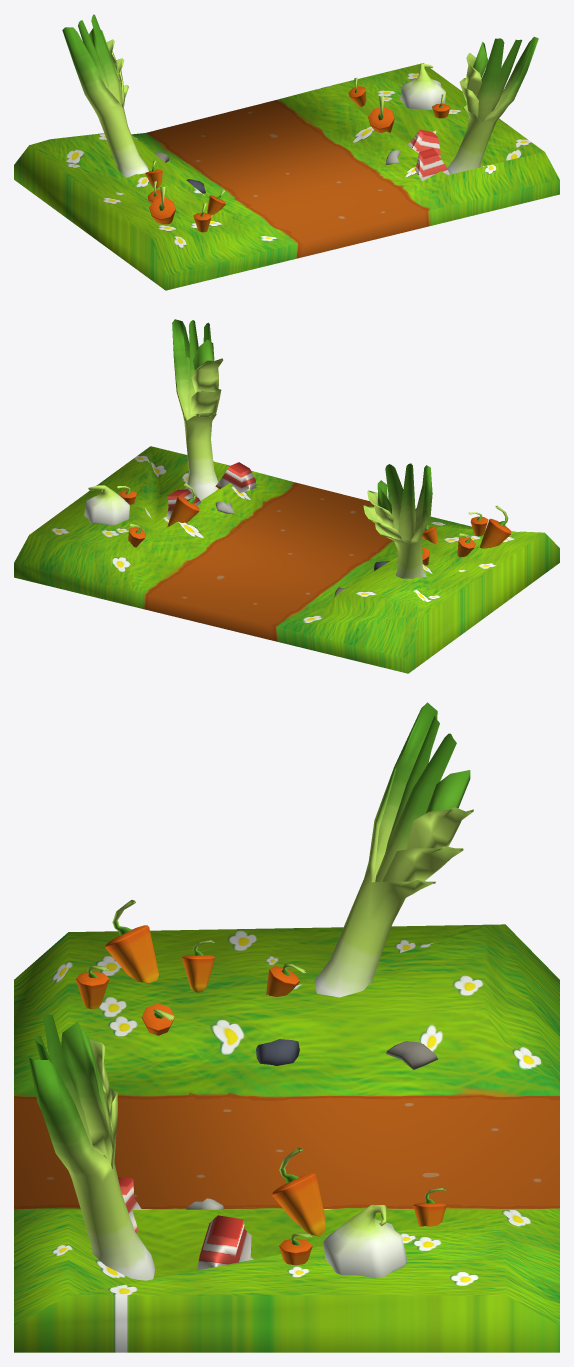
File: D_block_Vide_02.FBX
The picture shows the model from 3 angles, top to bottom: view 1: azimuth 30°, elevation 25°; view 2: azimuth 150°, elevation 25°; view 3: azimuth 270°, elevation 25°; orthographic projection. The views are drawn at different scales.
Parts seen in each view (by area): view 1: Biome_Vide_02; view 2: Biome_Vide_02; view 3: Biome_Vide_02.
Boxes of the visible parts, box(x1,y1,x2,y2) form: Biome_Vide_02: box(14, 14, 559, 290); Biome_Vide_02: box(14, 319, 559, 673); Biome_Vide_02: box(14, 702, 559, 1352).
Bounding box in the file's own units: 9 × 3.86 × 6.
2 materials, 2 textured.
